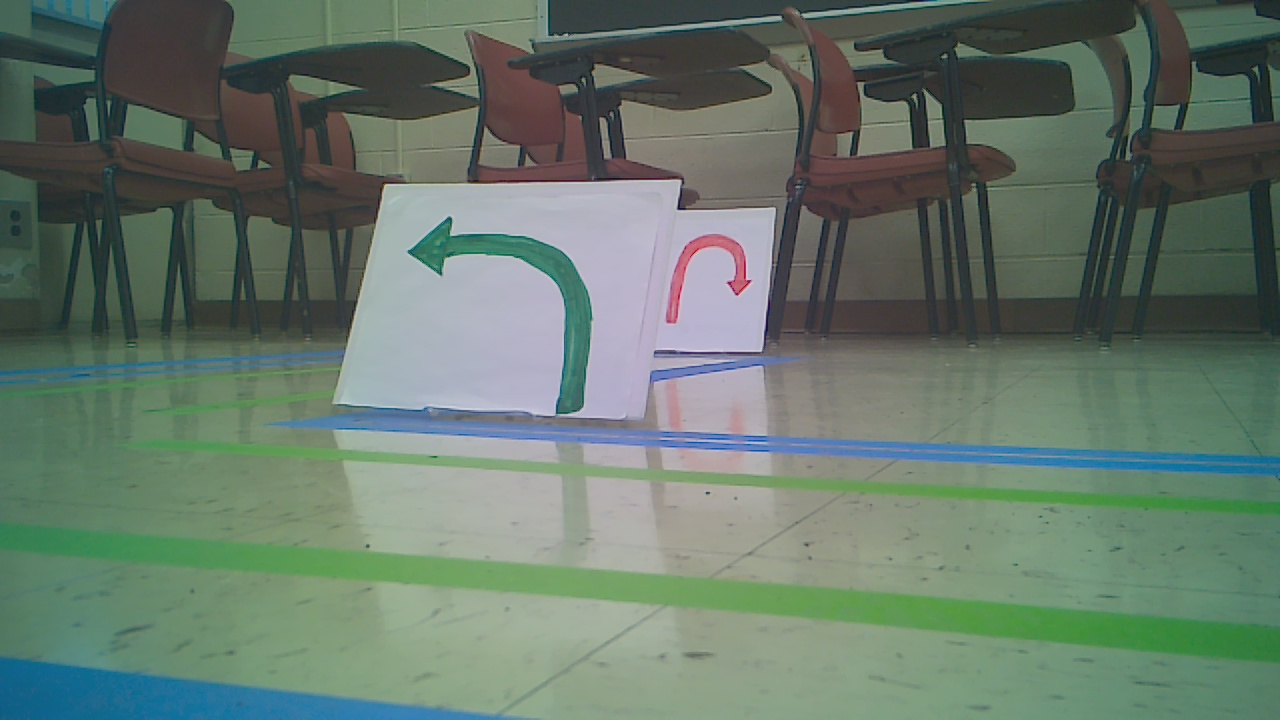greenline: (9, 526, 1242, 655), (129, 437, 1277, 521)
left: (402, 215, 596, 414)
uturn: (664, 226, 750, 329)
